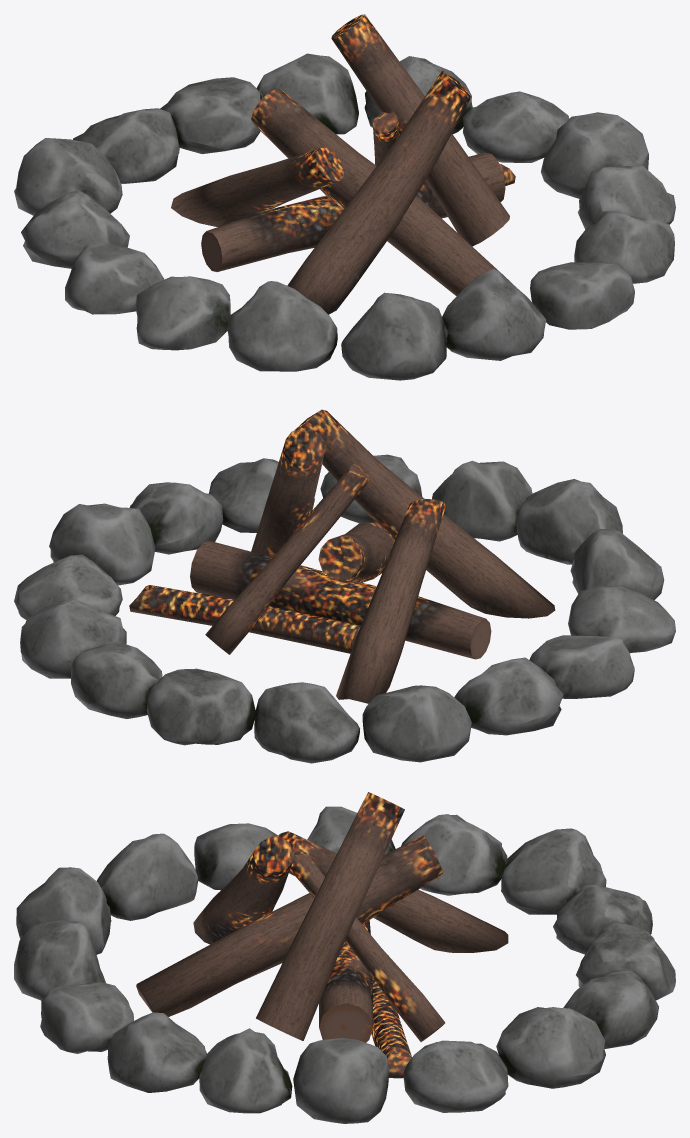
File: CampFire.fbx
3 views of the same model, one above another, from view 1: azimuth 30°, elevation 25°; view 2: azimuth 150°, elevation 25°; view 3: azimuth 270°, elevation 25° (orthographic).
Visible parts, largest first — view 1: CampFire; view 2: CampFire; view 3: CampFire.
Boxes of the visible parts, x1,y1,x2,y2 form: CampFire: (14,14,675,380); CampFire: (14,409,675,763); CampFire: (14,792,675,1123).
Size of the model in its own units: 98857 by 36315 by 98370.
